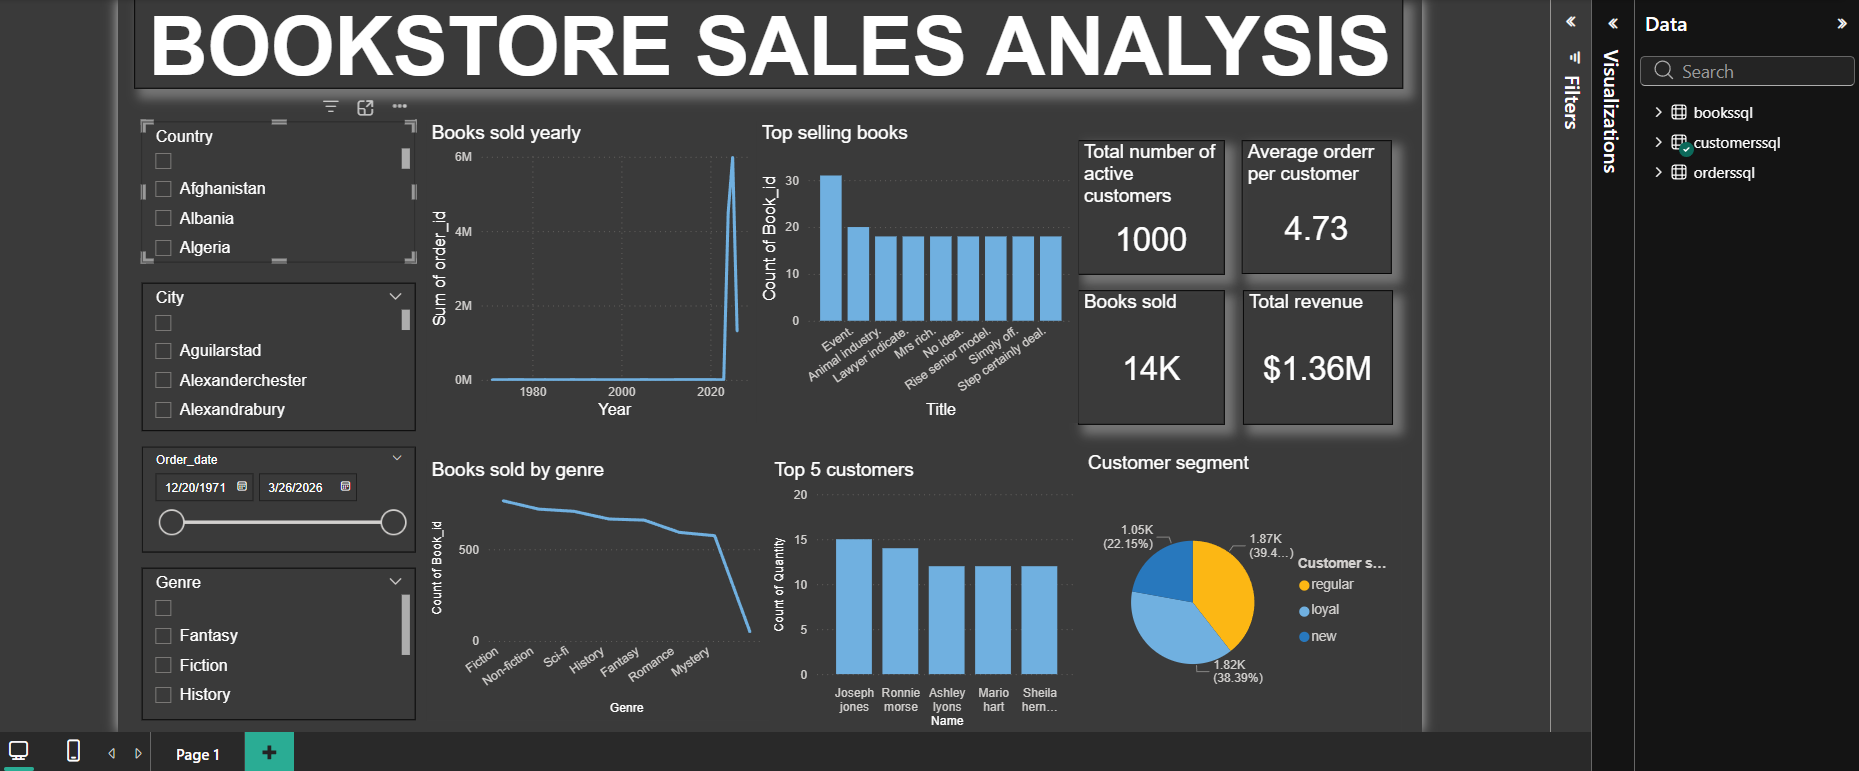

This screenshot's page, from the dashboard's own definition file:
{"tool":"powerbi","page":{"name":"Page 1","canvas":[1280,720],"ordinal":0},"visuals":[{"type":"card","title":"Average orderr per customer","fields":{"Values":["orderssql.Avg Orders per Customer"]},"box":[1103.1,138.7,147.2,131.3],"z":0},{"type":"card","title":"Total number of active customers","fields":{"Values":["orderssql.Avg Orders per Customer","customerssql.total number of active customers"]},"box":[942.7,138.6,144.1,131.7],"z":1000},{"type":"card","title":"Books sold","fields":{"Values":["orderssql.Avg Orders per Customer","orderssql.total books sold"]},"box":[942.7,285.4,144.1,131.7],"z":2000},{"type":"card","title":"Total revenue","fields":{"Values":["orderssql.Avg Orders per Customer","Sum(orderssql.Total_amount)"]},"box":[1104.6,285.4,146.8,131.7],"z":3000},{"type":"columnChart","title":"Top 5 customers","fields":{"Y":["CountNonNull(orderssql.Quantity)"],"Category":["customerssql.Name"]},"box":[639.5,451.5,307.4,269],"z":4000},{"type":"pieChart","title":"Customer segment","fields":{"Category":["orderssql.Customer segment"],"Y":["CountNonNull(orderssql.Customer segment)"]},"box":[946.8,444.6,312.9,275.8],"z":5000},{"type":"slicer","fields":{"Values":["customerssql.Country"]},"box":[23.3,120.8,269,138.6],"z":6000},{"type":"slicer","fields":{"Values":["customerssql.City"]},"box":[23.3,278.6,269,145.5],"z":7000},{"type":"slicer","fields":{"Values":["orderssql.Order_date"]},"box":[23.3,439.1,269,104.3],"z":8000},{"type":"slicer","fields":{"Values":["bookssql.Genre"]},"box":[23.3,558.5,269,149.6],"z":9000},{"type":"lineStackedColumnComboChart","title":"Books sold by genre","fields":{"Y2":["CountNonNull(orderssql.Book_id)"],"Category":["bookssql.Genre"]},"box":[303.1,451.5,336.2,256.4],"z":10000},{"type":"shape","title":"BOOKSTORE SALES ANALYSIS","box":[16.5,0,1245.9,88],"z":11000},{"type":"lineChart","title":"Books sold yearly","fields":{"Category":["orderssql.Order_date.Variation.Date Hierarchy.Year"],"Y":["Sum(orderssql.order_id)"]},"box":[303.3,120.8,323.8,296.4],"z":12000},{"type":"columnChart","title":"Top selling books","fields":{"Y":["CountNonNull(orderssql.Book_id)"],"Category":["bookssql.Title"]},"box":[627.1,120.8,315.6,296.4],"z":13000}]}

Visuals, with their boxes on the page's 1280x720 design canvas (x1, y1, x2, y2). These are canvas units, not pixel positions in the 1859x771 screenshot, which may show the page scaled, cropped or inside an application window:
"Average orderr per customer" card: pyautogui.locateOnScreen(1103, 139, 1250, 270)
"Total number of active customers" card: pyautogui.locateOnScreen(943, 139, 1087, 270)
"Books sold" card: pyautogui.locateOnScreen(943, 285, 1087, 417)
"Total revenue" card: pyautogui.locateOnScreen(1105, 285, 1251, 417)
"Top 5 customers" columnChart: pyautogui.locateOnScreen(640, 452, 947, 720)
"Customer segment" pieChart: pyautogui.locateOnScreen(947, 445, 1260, 720)
slicer - customerssql.Country: pyautogui.locateOnScreen(23, 121, 292, 259)
slicer - customerssql.City: pyautogui.locateOnScreen(23, 279, 292, 424)
slicer - orderssql.Order_date: pyautogui.locateOnScreen(23, 439, 292, 543)
slicer - bookssql.Genre: pyautogui.locateOnScreen(23, 558, 292, 708)
"Books sold by genre" lineStackedColumnComboChart: pyautogui.locateOnScreen(303, 452, 639, 708)
"BOOKSTORE SALES ANALYSIS" shape: pyautogui.locateOnScreen(16, 0, 1262, 88)
"Books sold yearly" lineChart: pyautogui.locateOnScreen(303, 121, 627, 417)
"Top selling books" columnChart: pyautogui.locateOnScreen(627, 121, 943, 417)
